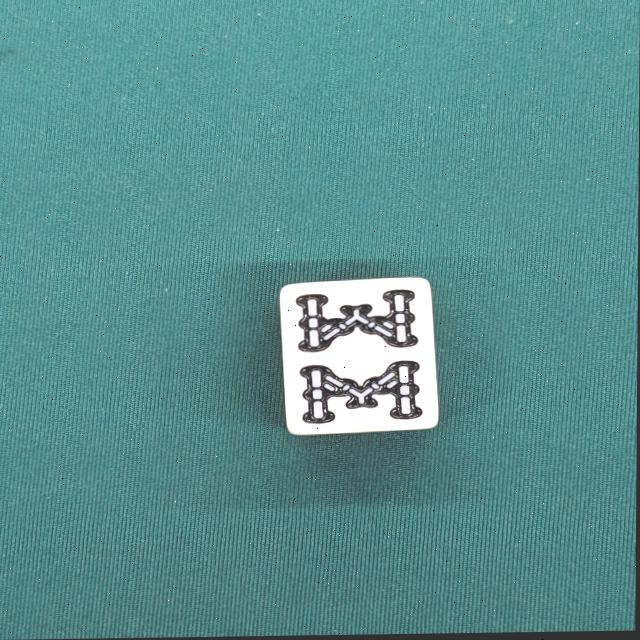8s: (278, 278, 441, 440)
